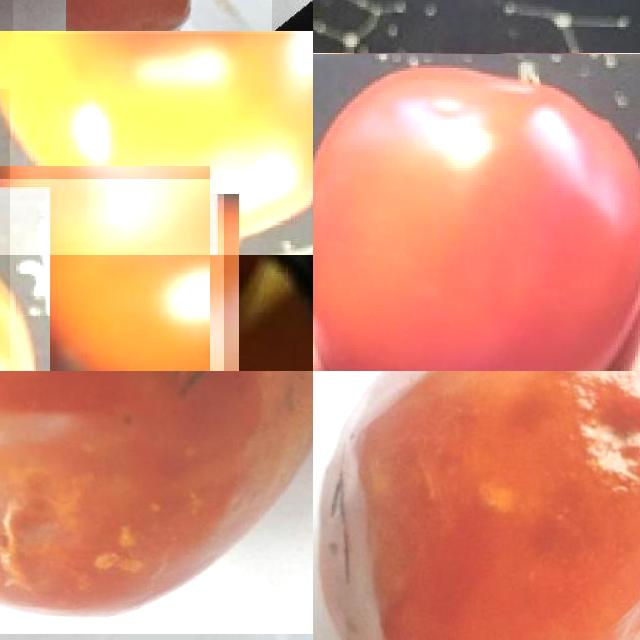0: (313, 53, 640, 371)
Fresh Tomato: (0, 31, 313, 255), (0, 179, 224, 371)
Rotten Tomato: (313, 371, 640, 640), (0, 371, 313, 634)
